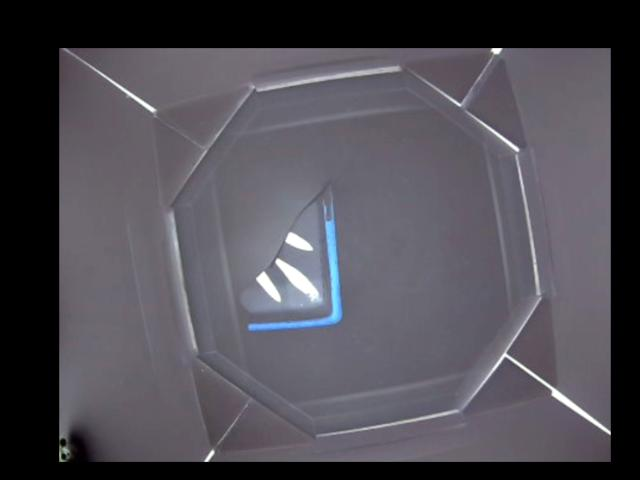China: (235, 183, 342, 330)
